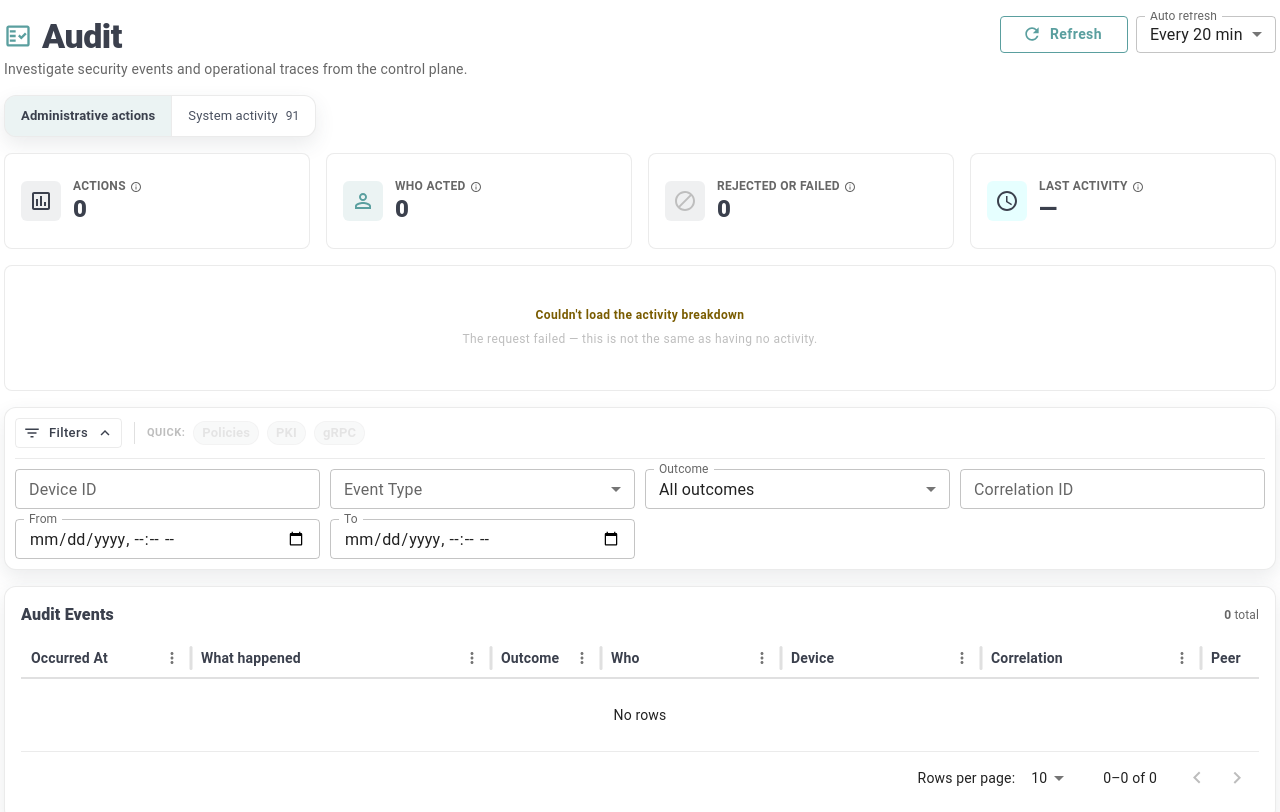
Audit — carriles › los KPI siguen el carril: 'Actions' en admin, 'System events' en system
Expected: the text "Actions" is shown, [73,179,126,194]
Expected: the text "System events" is not shown
Click the text "System activity": (233, 116) [188,106,278,126]
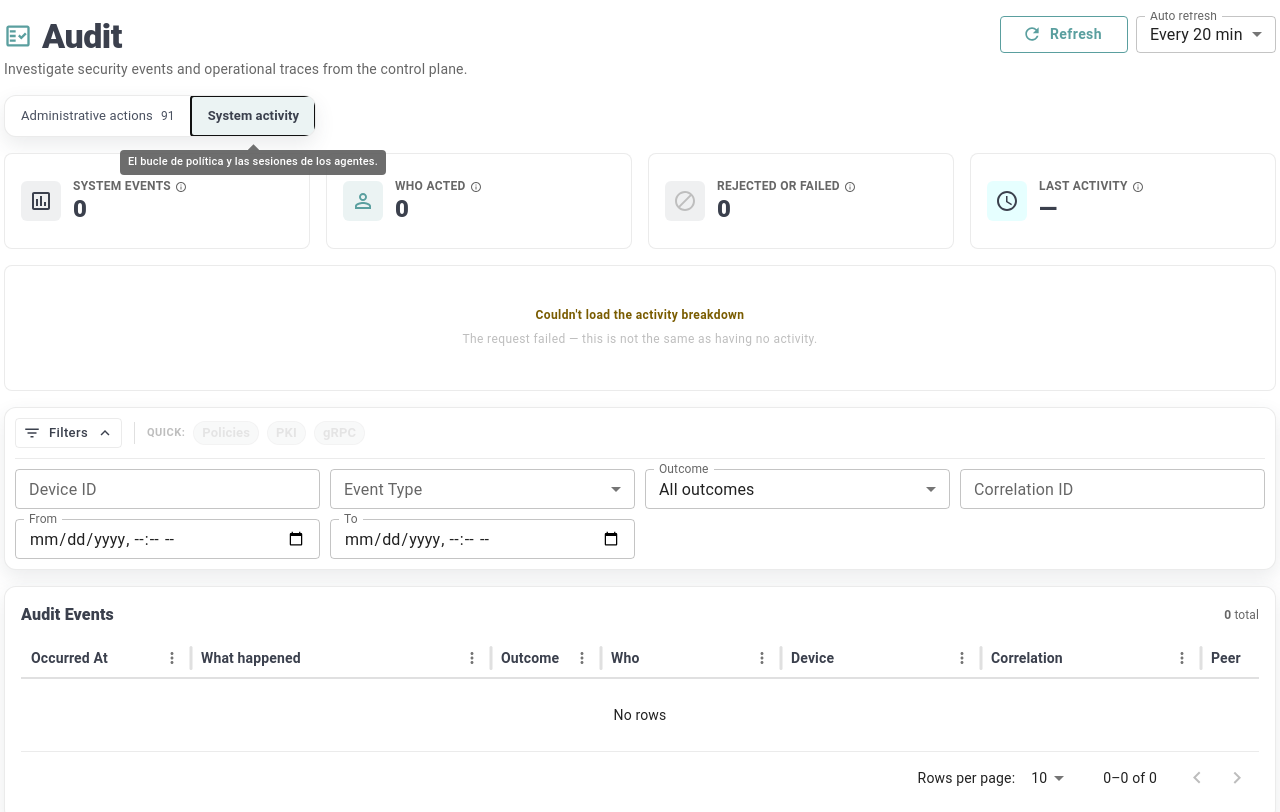
Result: the text "System events" is shown at [73,179,171,194]
